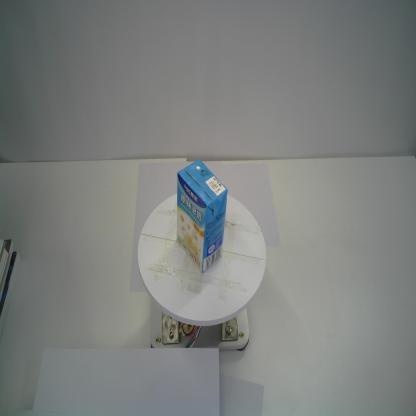Milk: (176, 157, 229, 274)
